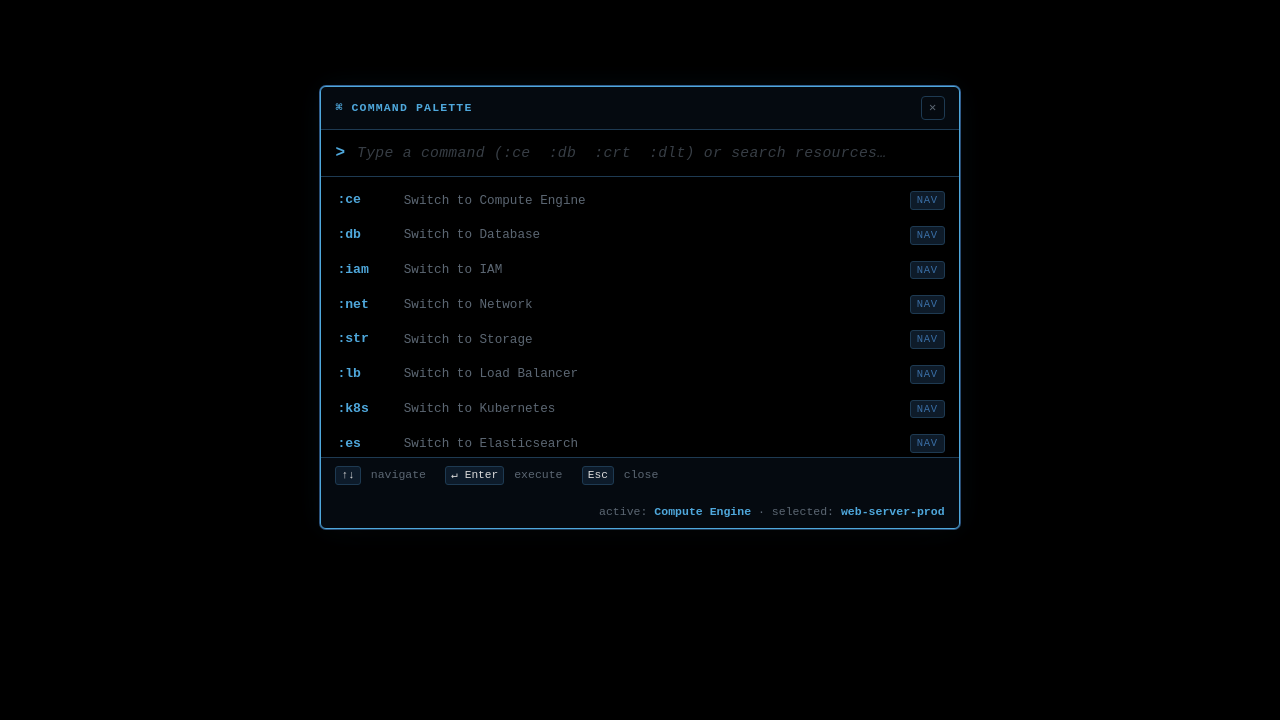
CommandPalette › displays no matching commands message when query matches nothing
Type ":unknown" into the field with placeholder "Type a command (:ce :db :crt :dlt) or search resources…" at (649, 153), box [353,142,945,164]
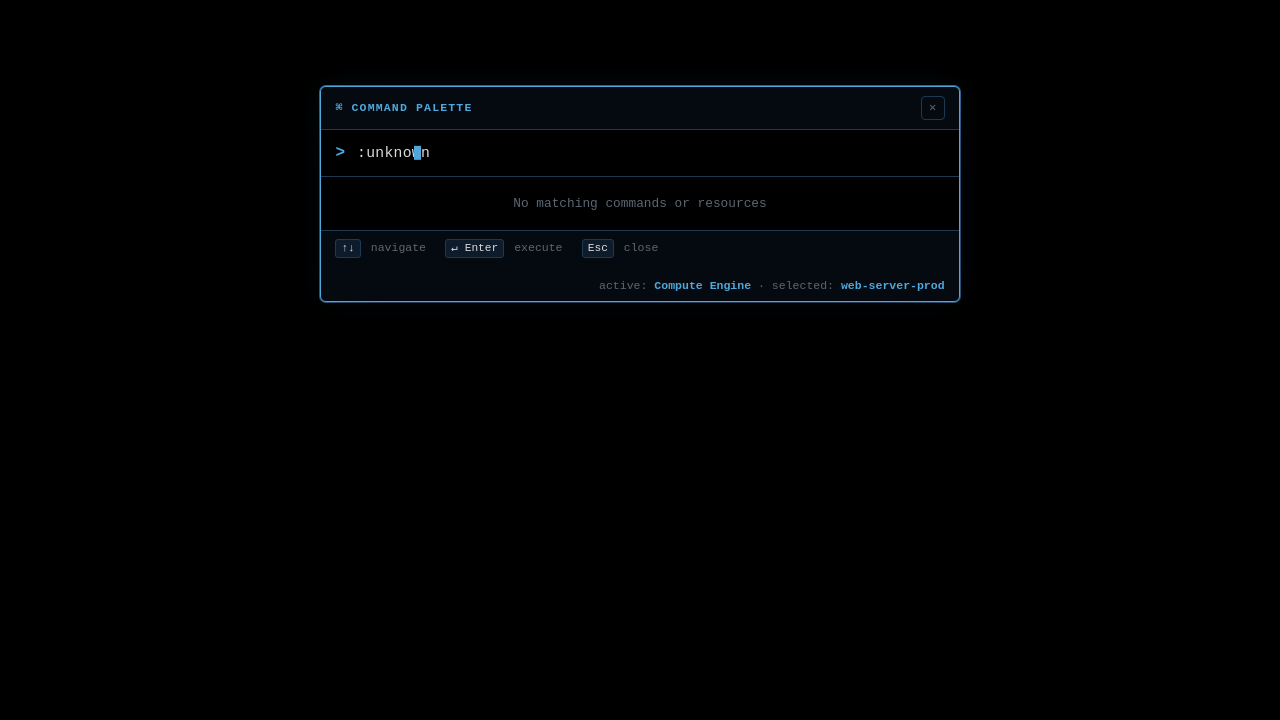
expect the text "No matching commands or resources" is shown: met, box [513,196,767,211]
